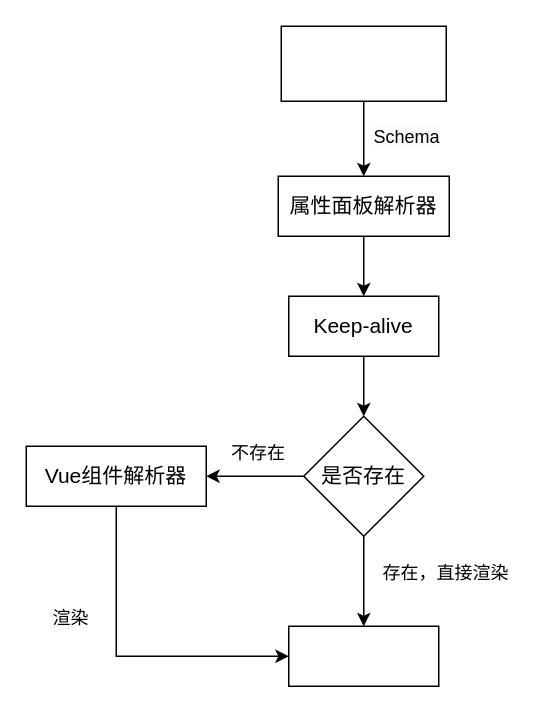
Image size: 548x713. Some labels were removed from this diagram. Each missing label, with the centre of its shape:
"属性表单面板" belongs at (x=363, y=655).
"物料组件" belongs at (x=363, y=63).
